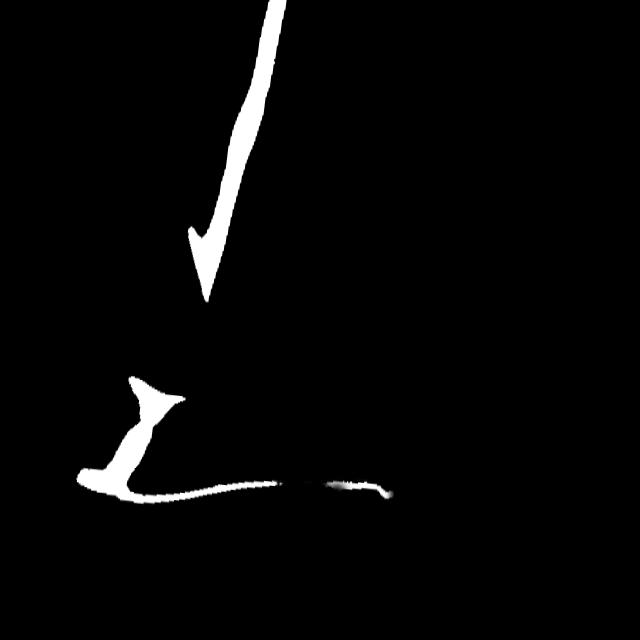inf: (270, 470, 336, 501)
